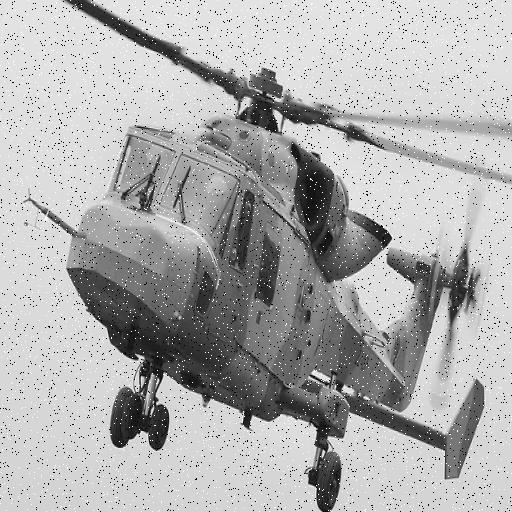helicopter: (28, 1, 512, 475)
